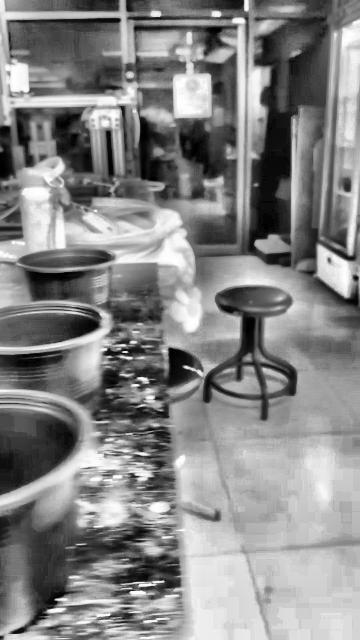pot: (0, 393, 83, 637), (0, 301, 109, 414), (17, 248, 115, 307)
